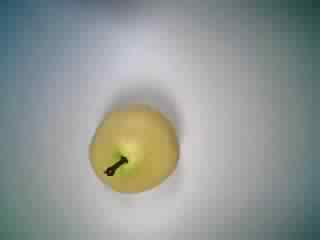pear: (80, 88, 190, 206)
